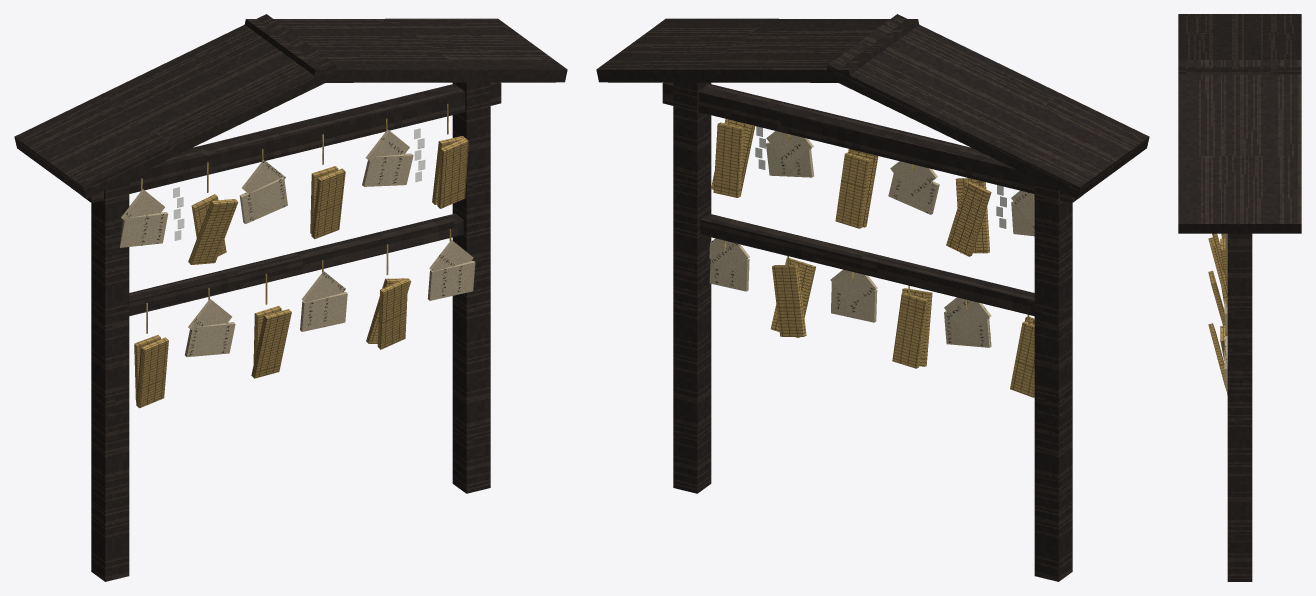
The model's file is prop_ema.glb.
3 renders of one model, left to right at view 1: azimuth 30°, elevation 25°; view 2: azimuth 150°, elevation 25°; view 3: azimuth 270°, elevation 25°, orthographic. The views are drawn at different scales.
Parts seen in each view (by area): view 1: prop_ema; view 2: prop_ema; view 3: prop_ema.
Part boxes in pixels (<box>): prop_ema: <box>14,14,567,581</box>; prop_ema: <box>596,14,1149,581</box>; prop_ema: <box>1178,14,1301,581</box>.
Bounding box in the file's own units: 2.01 × 1.94 × 0.5.
Materials: 5 (5 with a texture image).
